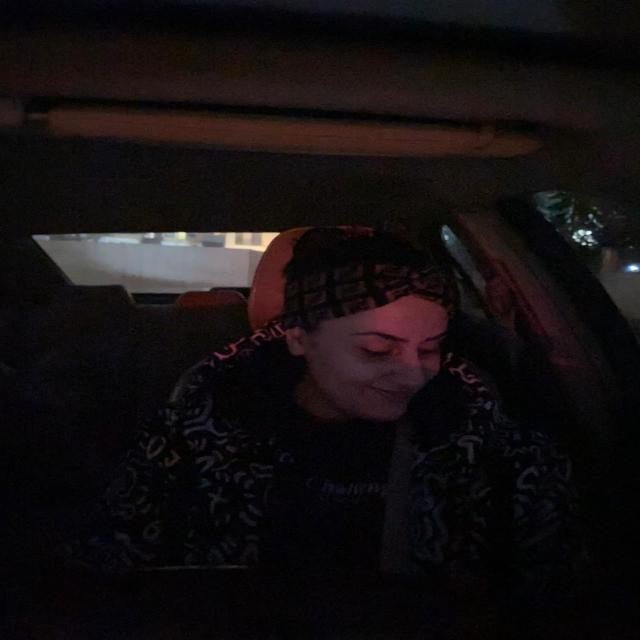drowsy: (270, 216, 463, 432)
